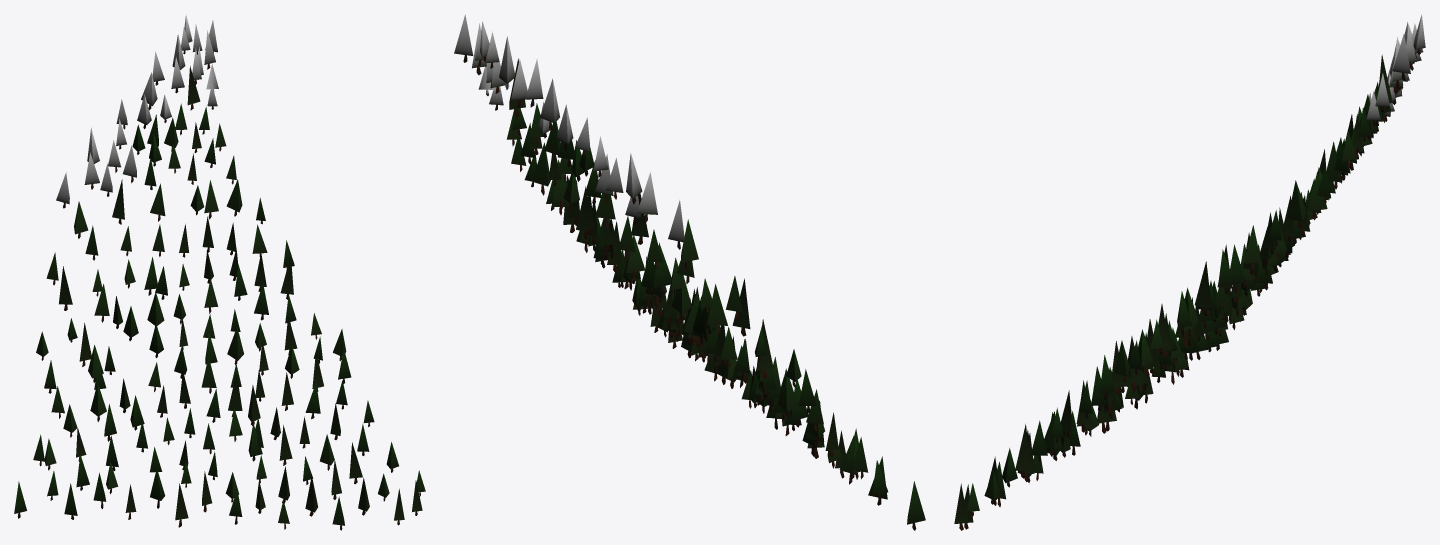
File: c_trees_sierra_front.fbx
3 views of the same model, side by side, from view 1: azimuth 30°, elevation 25°; view 2: azimuth 150°, elevation 25°; view 3: azimuth 270°, elevation 25° (orthographic). The views are drawn at different scales.
Visible parts, largest first — view 1: c_trees_sierra_front; view 2: c_trees_sierra_front; view 3: c_trees_sierra_front.
Boxes of the visible parts, x1=… form: c_trees_sierra_front: x1=14, y1=14, x2=425, y2=530; c_trees_sierra_front: x1=454, y1=14, x2=925, y2=530; c_trees_sierra_front: x1=954, y1=14, x2=1425, y2=530.
Size of the model in its own units: 104 by 124 by 106.
